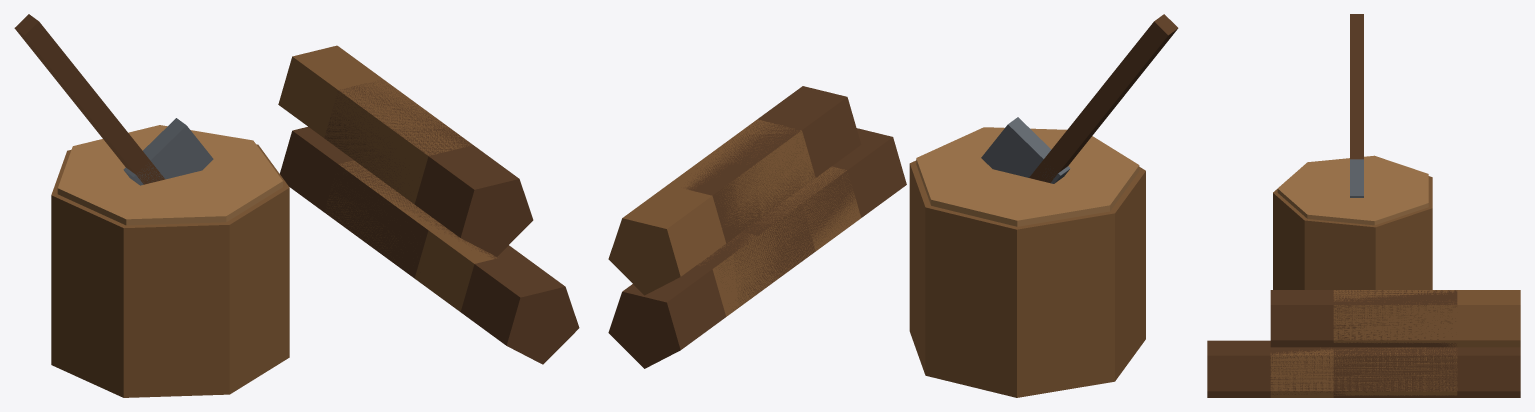
The model's file is PR_ChoppingBlock.fbx.
3 views of the same model, side by side, from view 1: azimuth 30°, elevation 25°; view 2: azimuth 150°, elevation 25°; view 3: azimuth 270°, elevation 25° (orthographic). The views are drawn at different scales.
Visible parts, largest first — view 1: PR_ChoppingBlock; view 2: PR_ChoppingBlock; view 3: PR_ChoppingBlock.
Part boxes in pixels (x1,y1,x2,y2): PR_ChoppingBlock: (14, 14, 579, 397); PR_ChoppingBlock: (608, 14, 1178, 397); PR_ChoppingBlock: (1207, 14, 1520, 397).
Bounding box in the file's own units: 1.53 × 1.34 × 1.18.
